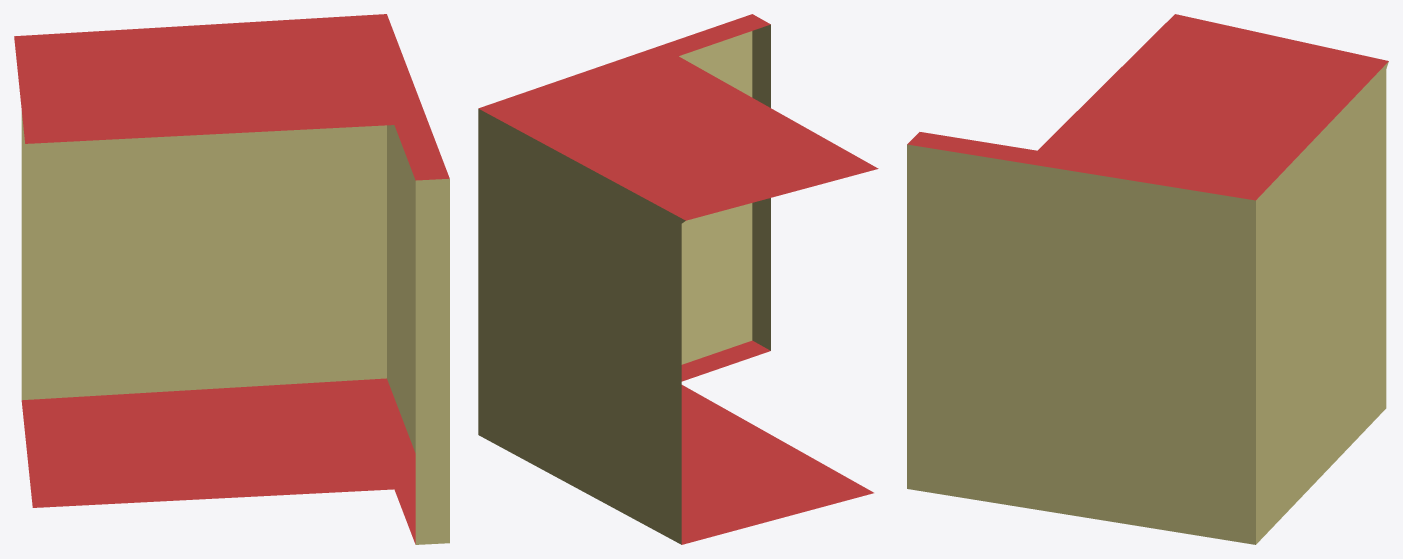
The picture shows the model from 3 angles, left to right: view 1: azimuth 30°, elevation 25°; view 2: azimuth 150°, elevation 25°; view 3: azimuth 270°, elevation 25°; orthographic projection. The views are drawn at different scales.
Bounding box in the file's own units: 10.14 × 11.08 × 8.74.
